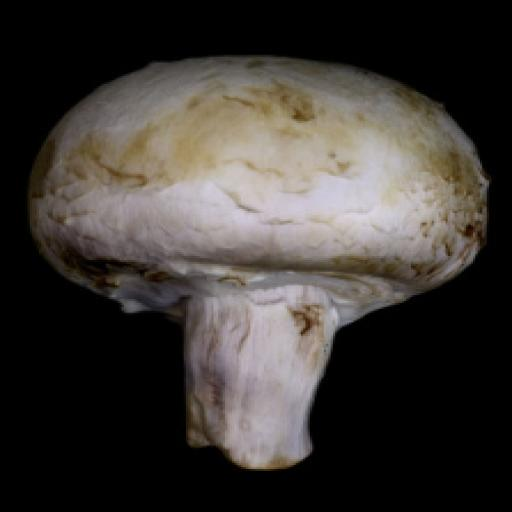Button Mushroom: (24, 48, 489, 472)
